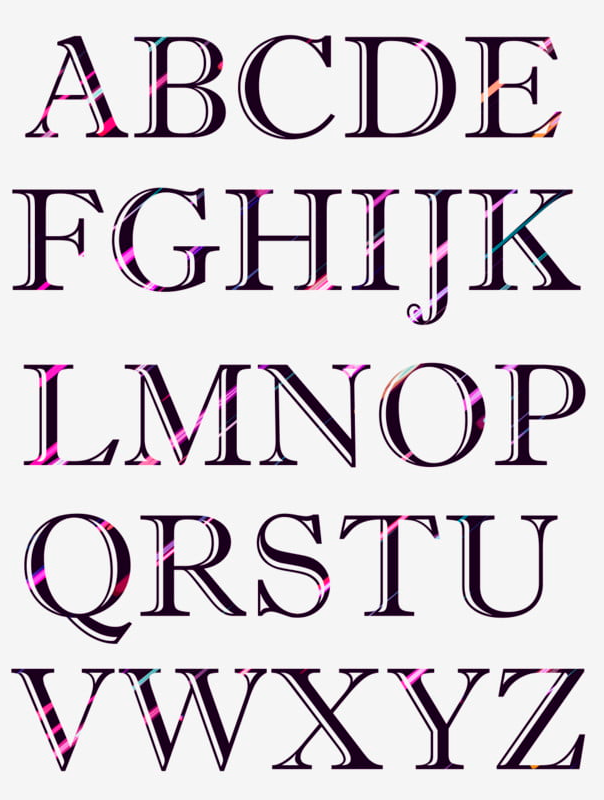A: (27, 26, 129, 143)
B: (128, 29, 229, 147)
C: (233, 29, 339, 142)
D: (343, 30, 461, 145)
E: (459, 24, 569, 144)
F: (9, 181, 107, 302)
G: (110, 177, 223, 299)
H: (223, 181, 348, 297)
I: (345, 178, 408, 303)
J: (406, 178, 463, 330)
K: (463, 179, 589, 301)
L: (21, 356, 121, 475)
M: (121, 357, 258, 477)
N: (256, 355, 370, 477)
O: (379, 356, 488, 475)
P: (491, 356, 586, 470)
Q: (20, 511, 139, 648)
R: (138, 506, 252, 629)
S: (251, 505, 340, 627)
T: (341, 506, 447, 622)
U: (444, 506, 560, 621)
V: (6, 662, 114, 773)
W: (118, 662, 268, 779)
X: (271, 661, 389, 776)
Y: (384, 665, 494, 779)
Z: (492, 656, 592, 777)
